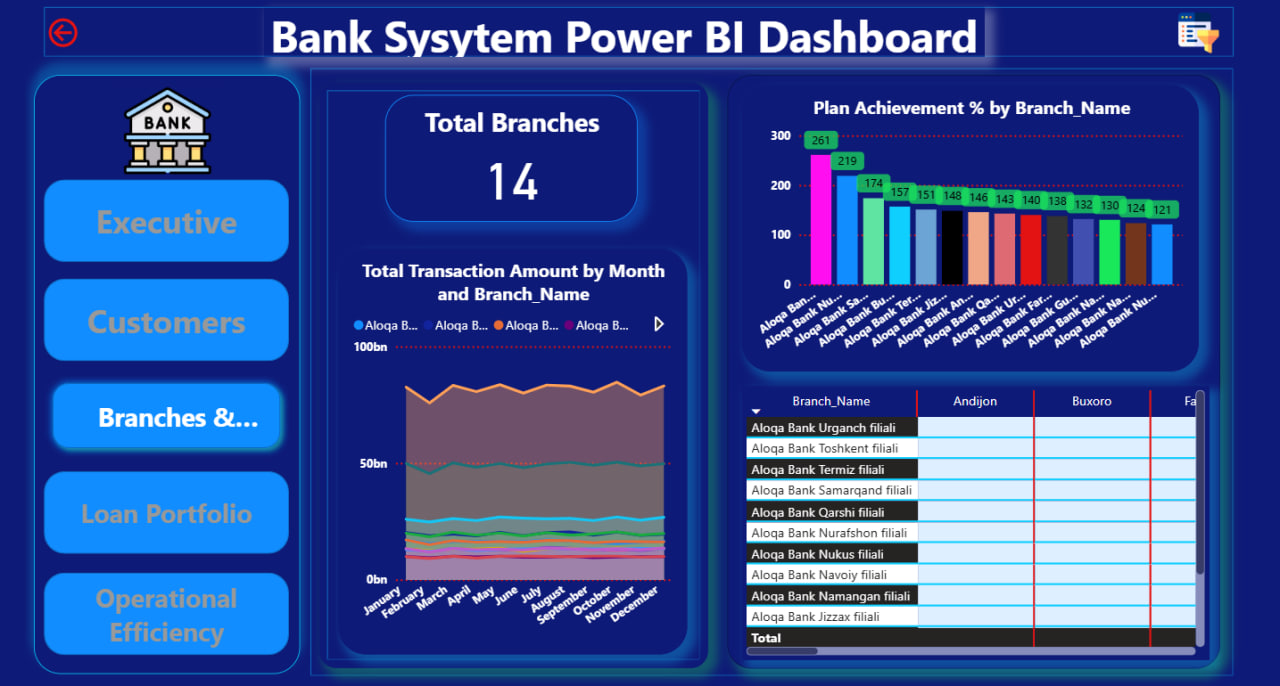

What the dashboard file says about the page in this screenshot:
{"tool":"powerbi","page":{"name":"Branches & Regions","canvas":[1280,720],"ordinal":2},"visuals":[{"type":"shape","box":[19.9,8.7,1244,52.2],"z":0},{"type":"shape","box":[298.8,72.5,965,636.2],"z":1000},{"type":"shape","box":[307.5,87.5,406.2,612.5],"z":2000},{"type":"image","box":[1173.8,8.8,106.2,52.5],"z":3000},{"type":"shape","box":[8.8,78.8,278.8,627.5],"z":4000},{"type":"textbox","title":"Bank Sysytem Power BI Dashboard ","box":[250,7.5,753.8,53.8],"z":5000},{"type":"shape","box":[20,188.8,256.2,86.2],"z":6000},{"type":"shape","box":[20,292.5,256.2,86.2],"z":7000},{"type":"shape","box":[20,392.5,256.2,86.2],"z":8000},{"type":"shape","box":[20,493.8,256.2,86.2],"z":9000},{"type":"shape","box":[20,600,256.2,86.2],"z":10000},{"type":"image","box":[87.5,87.5,123.8,101.2],"z":11000},{"type":"actionButton","box":[20,15,100,40],"z":12000},{"type":"shape","box":[735,78.8,515,621.2],"z":13000},{"type":"lineClusteredColumnComboChart","fields":{"Category":["Dim_Branches.Branch_Name"],"Y":["page_3.Plan Achievement %"]},"box":[750,90,477.5,300],"z":14000},{"type":"pivotTable","fields":{"Rows":["Dim_Branches.Branch_Name"],"Columns":["Dim_Branches.City_Uz"],"Values":["Sum(Fact_Transactions.Amount)"]},"box":[750,405,488.8,287.5],"z":15000},{"type":"card","title":"Total Branches","fields":{"Values":["page_3.Total Branches"]},"box":[376.2,100,263.8,132.5],"z":16000},{"type":"lineChart","fields":{"Category":["Dim_Date.Full_Date.Variation.Date Hierarchy.Month"],"Y":["page_1.Total Transaction Amount"],"Series":["Dim_Branches.Branch_Name"]},"box":[327.5,261.2,365,425],"z":17000}]}

Visuals, with their boxes on the page's 1280x720 design canvas (x1, y1, x2, y2). These are canvas units, not pixel positions in the 1280x686 screenshot, which may show the page scaled, cropped or inside an application window:
shape: <bbox>20, 9, 1264, 61</bbox>
shape: <bbox>299, 72, 1264, 709</bbox>
shape: <bbox>308, 88, 714, 700</bbox>
image: <bbox>1174, 9, 1280, 61</bbox>
shape: <bbox>9, 79, 288, 706</bbox>
"Bank Sysytem Power BI Dashboard " textbox: <bbox>250, 8, 1004, 61</bbox>
shape: <bbox>20, 189, 276, 275</bbox>
shape: <bbox>20, 292, 276, 379</bbox>
shape: <bbox>20, 392, 276, 479</bbox>
shape: <bbox>20, 494, 276, 580</bbox>
shape: <bbox>20, 600, 276, 686</bbox>
image: <bbox>88, 88, 211, 189</bbox>
actionButton: <bbox>20, 15, 120, 55</bbox>
shape: <bbox>735, 79, 1250, 700</bbox>
lineClusteredColumnComboChart - Dim_Branches.Branch_Name x page_3.Plan Achievement %: <bbox>750, 90, 1228, 390</bbox>
pivotTable - Dim_Branches.Branch_Name x Dim_Branches.City_Uz: <bbox>750, 405, 1239, 692</bbox>
"Total Branches" card: <bbox>376, 100, 640, 232</bbox>
lineChart - Dim_Date.Full_Date.Variation.Date Hierarchy.Month x page_1.Total Transaction Amount: <bbox>328, 261, 692, 686</bbox>
